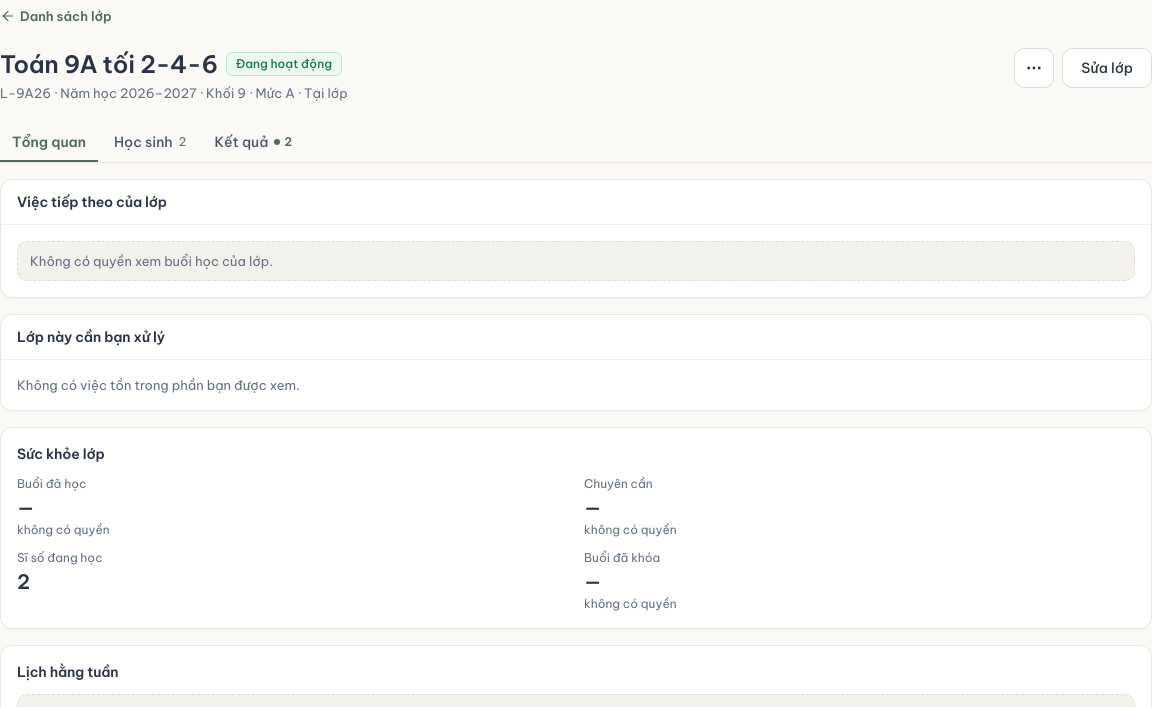
it: ClassStudentsTab › disables only Chuyển lớp when transfer targets are null
Click the tab "Học sinh 2". click: (150, 142)
box: x1=102 y1=122 x2=198 y2=162
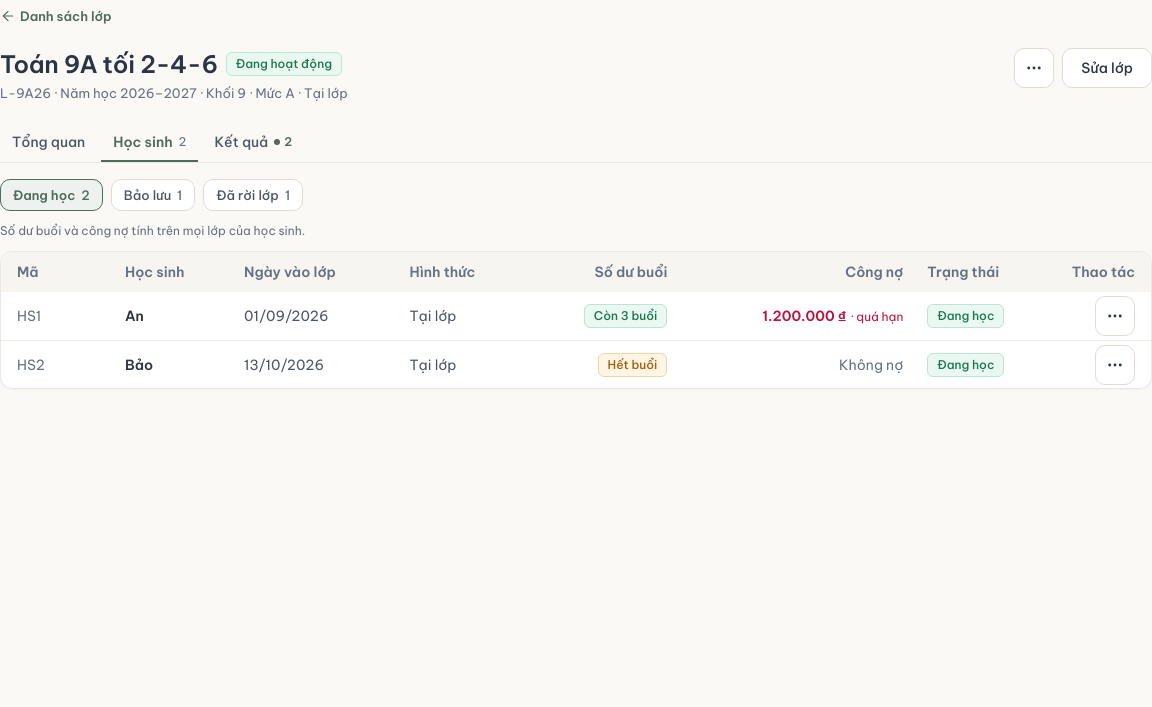
Click the button named "Thao tác ghi danh cho An". click: (1115, 316)
box: x1=1095 y1=296 x2=1135 y2=336
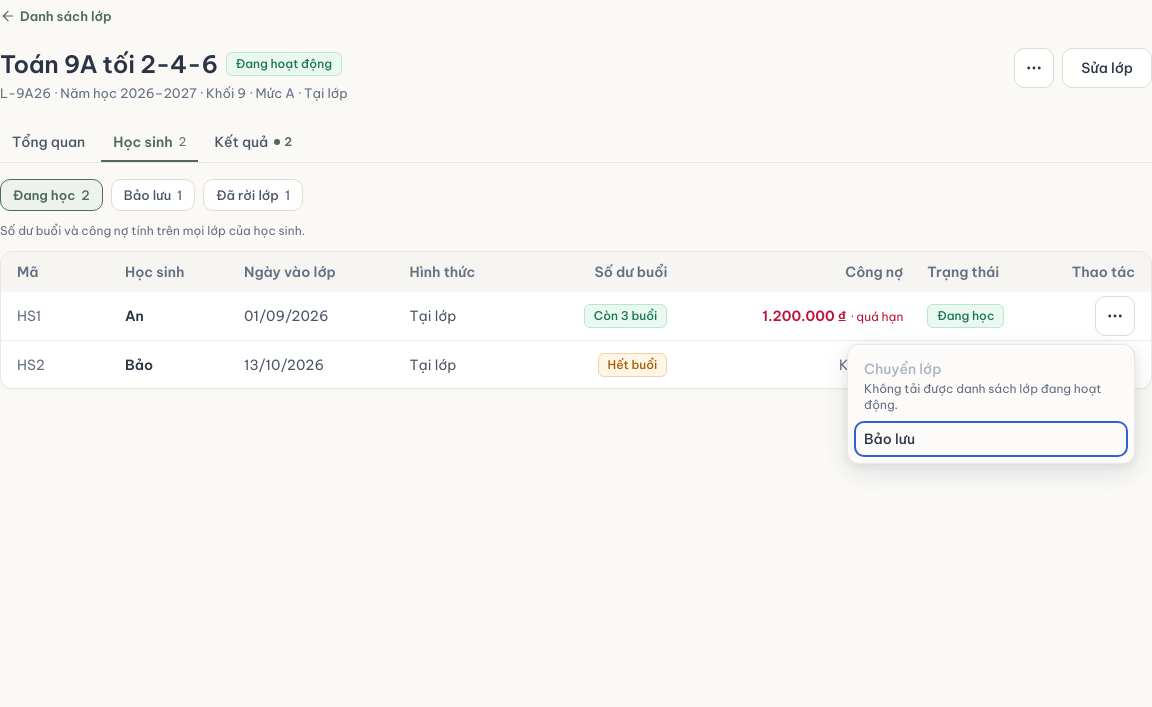
Now the text "Không tải được danh sách lớp đang hoạt động." is shown, box x1=864 y1=381 x2=1118 y2=413
